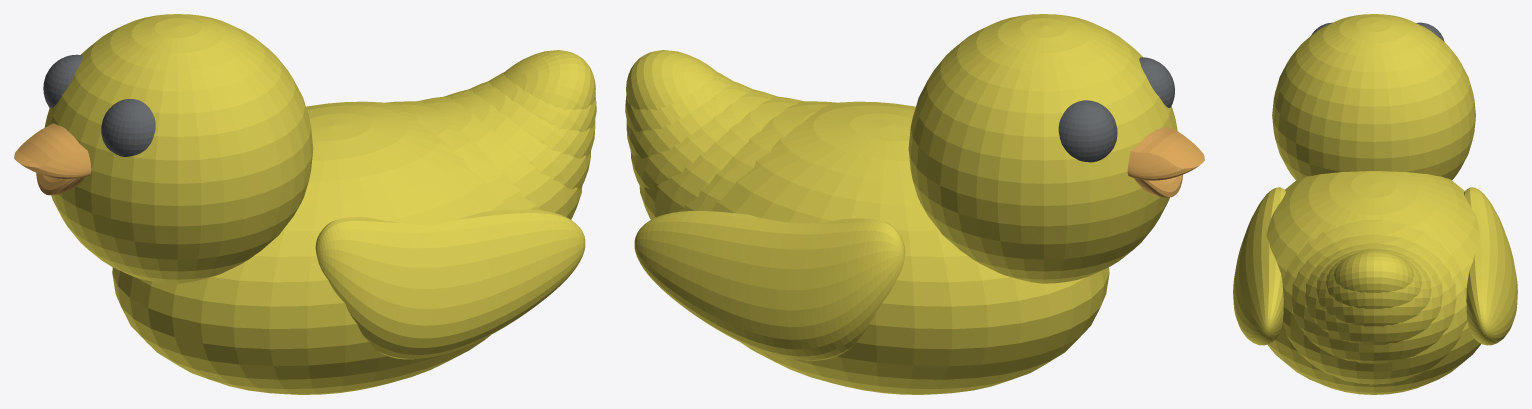
Rendered from Incredible_Stantia.glb.
The picture shows the model from 3 angles, left to right: view 1: azimuth 30°, elevation 25°; view 2: azimuth 150°, elevation 25°; view 3: azimuth 270°, elevation 25°; orthographic projection. The views are drawn at different scales.
Parts seen in each view (by area): view 1: Mesh_Mesh_head_geo.001_lambert2SG.001; view 2: Mesh_Mesh_head_geo.001_lambert2SG.001; view 3: Mesh_Mesh_head_geo.001_lambert2SG.001.
Part boxes in pixels (x1=…): Mesh_Mesh_head_geo.001_lambert2SG.001: x1=14, y1=14, x2=596, y2=394; Mesh_Mesh_head_geo.001_lambert2SG.001: x1=625, y1=14, x2=1204, y2=394; Mesh_Mesh_head_geo.001_lambert2SG.001: x1=1233, y1=14, x2=1517, y2=394.
Size of the model in its own units: 48.58 by 31.2 by 27.92.
